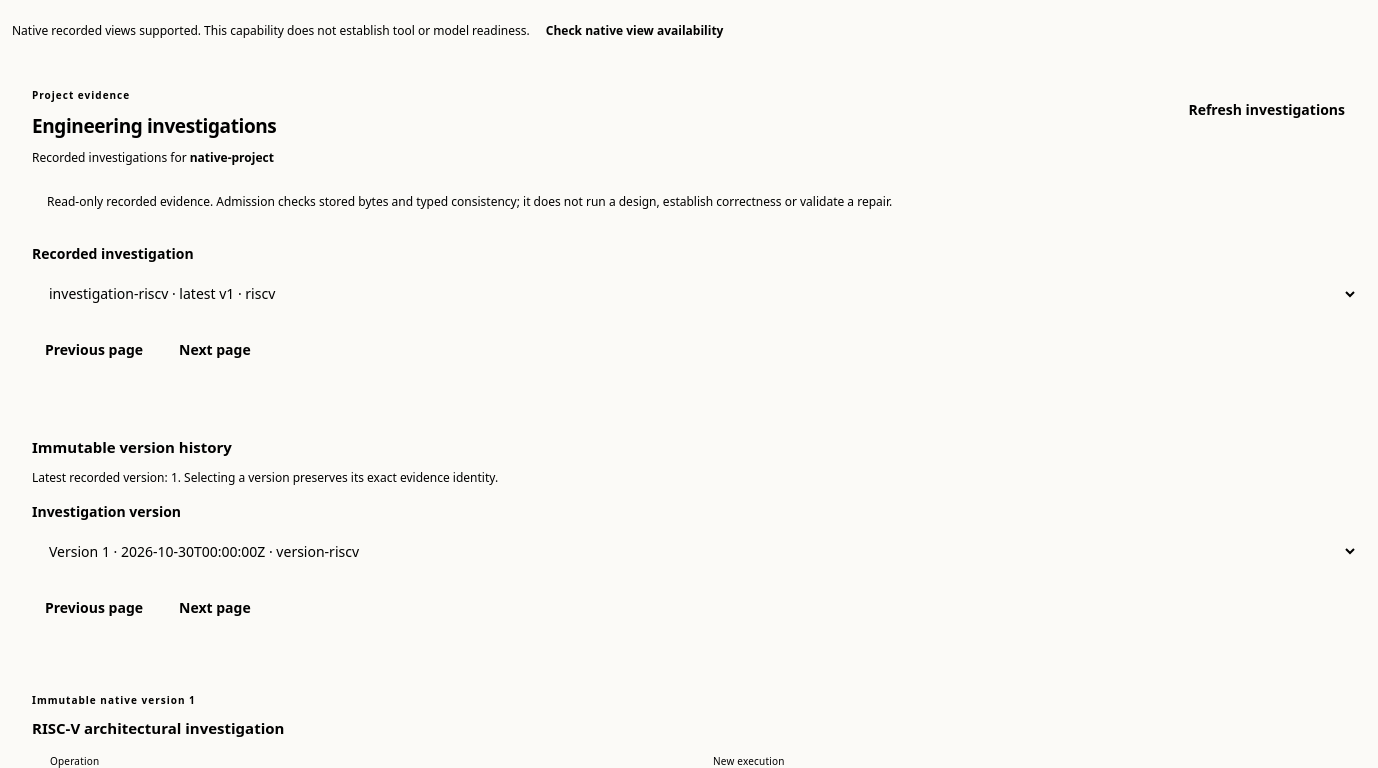
Test: withholds native links immediately during health revalidation and discards a revoked capability
The image size is (1378, 768).
Click the button "Check native view availability": (635, 31) top-left (533, 9), bottom-right (736, 53)
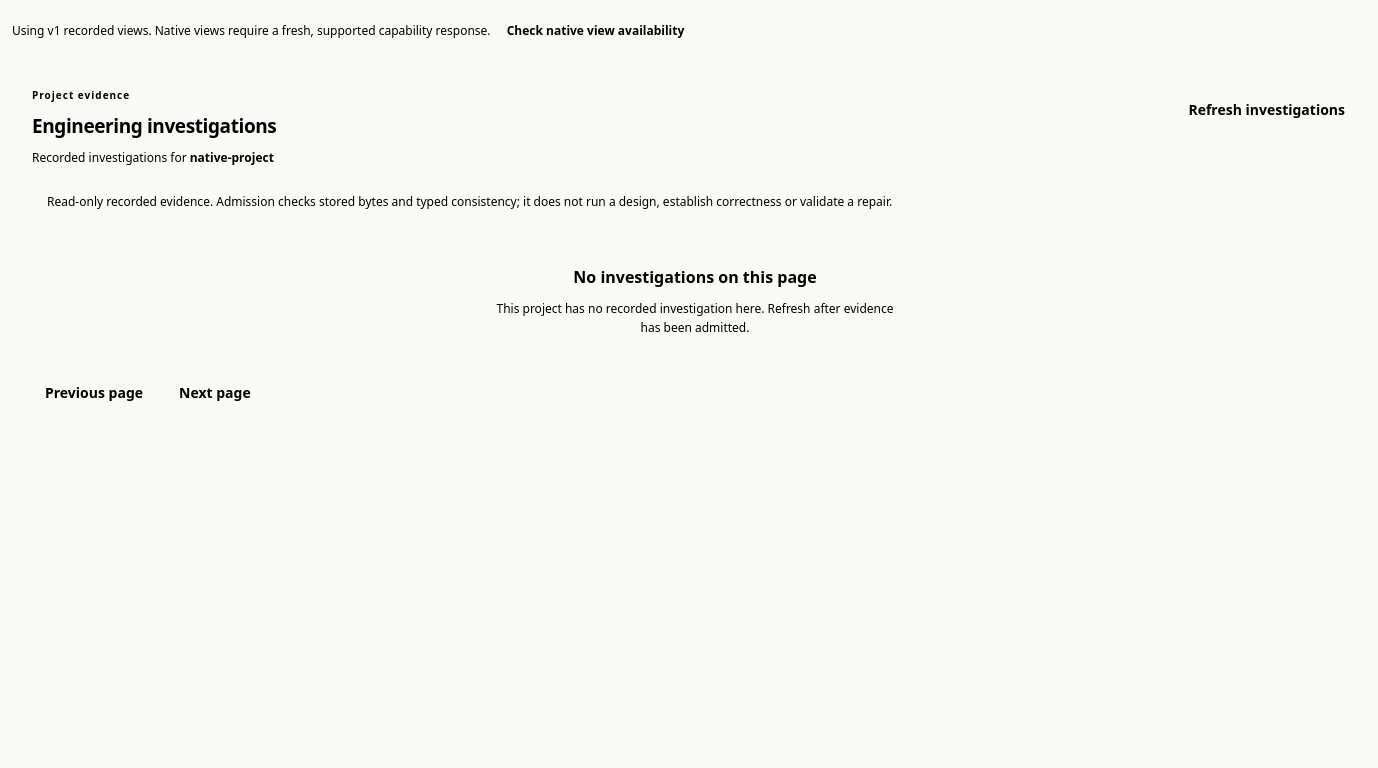
Expected: the heading "No investigations on this page" is shown, top-left (573, 266), bottom-right (817, 288)
Expected: the heading "RISC-V architectural investigation" is gone
